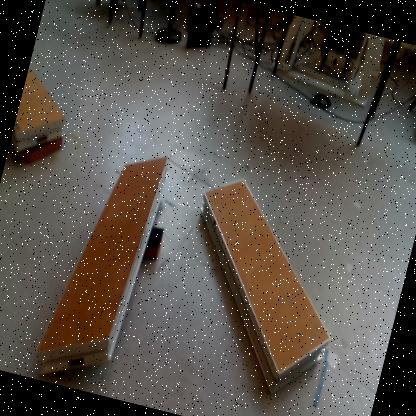Stairs: (40, 157, 169, 379), (201, 180, 331, 398), (12, 70, 66, 153)
